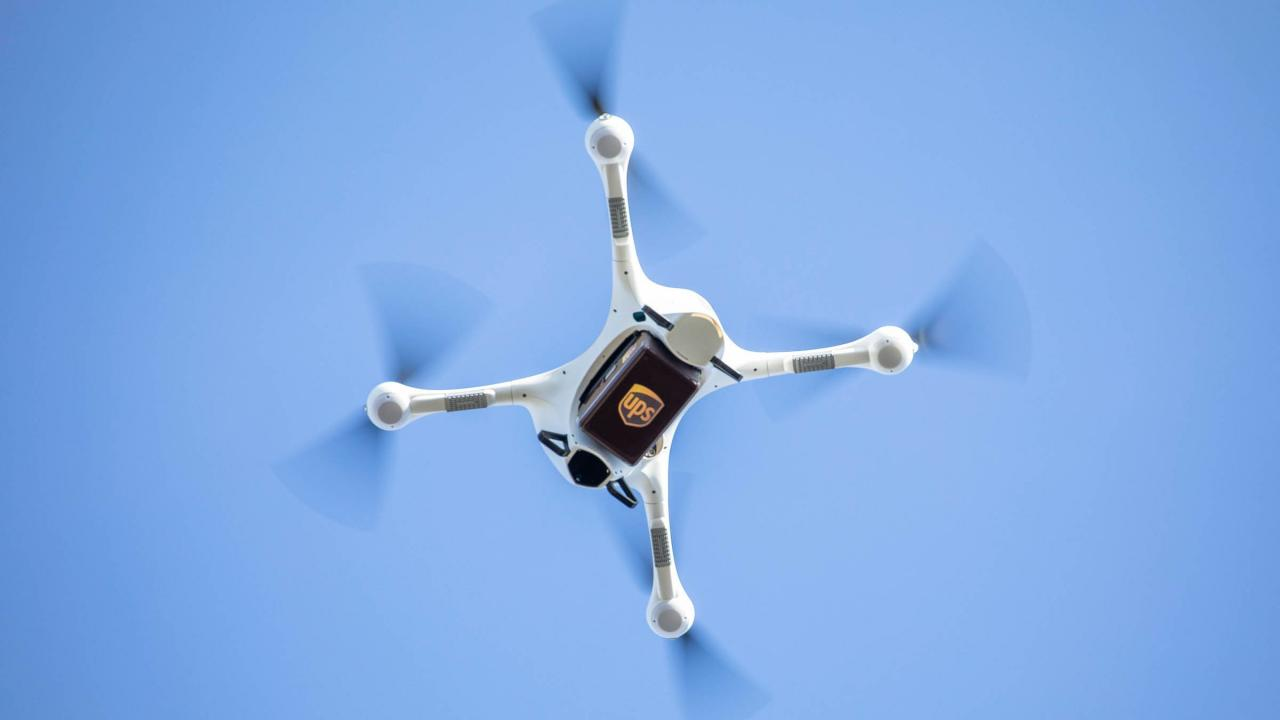Drone: (260, 0, 1047, 720)
